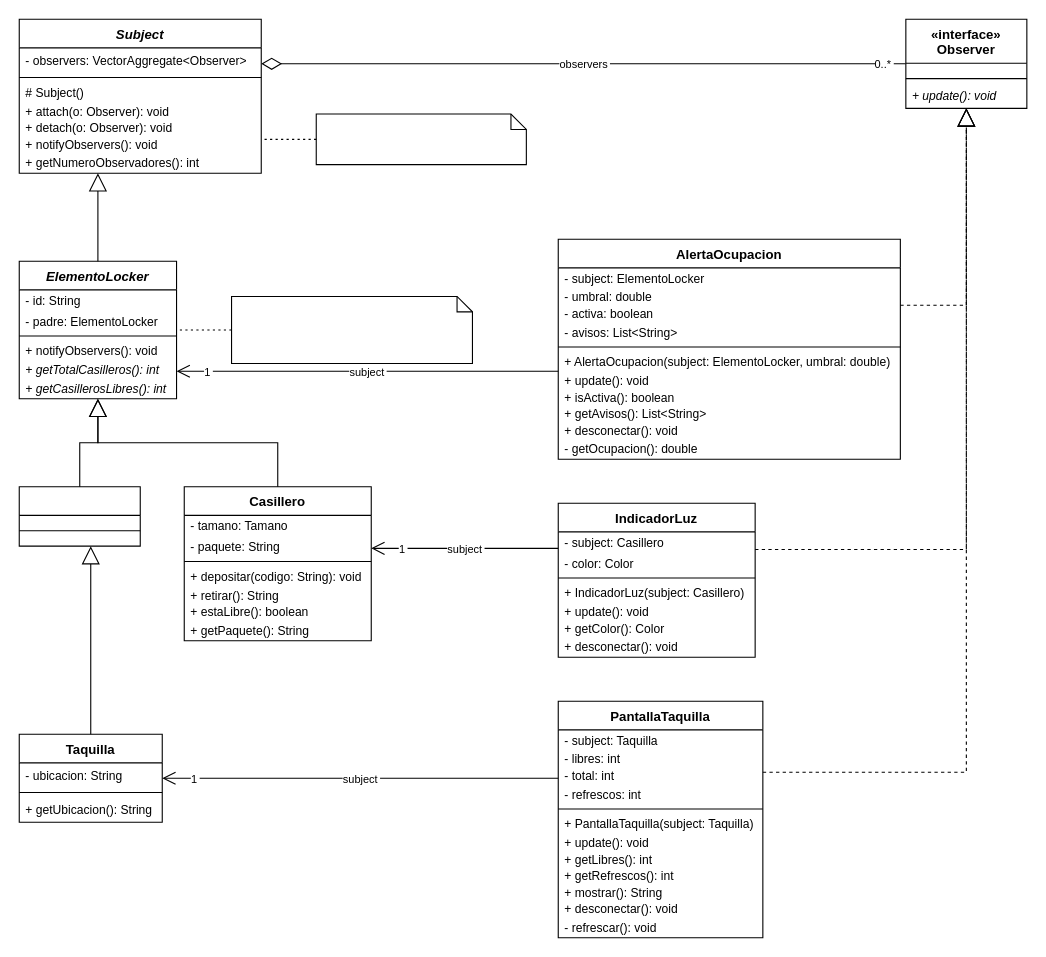
This 1046x957 diagram has some shape labels left out. The centre of each missing label's shape, as x and y in pixels:
for all o in observers: o.update(): the point at 420,139
GrupoLocker: the point at 79,516
super.notifyObservers() if (padre != null) padre.notifyObservers(): the point at 351,329
